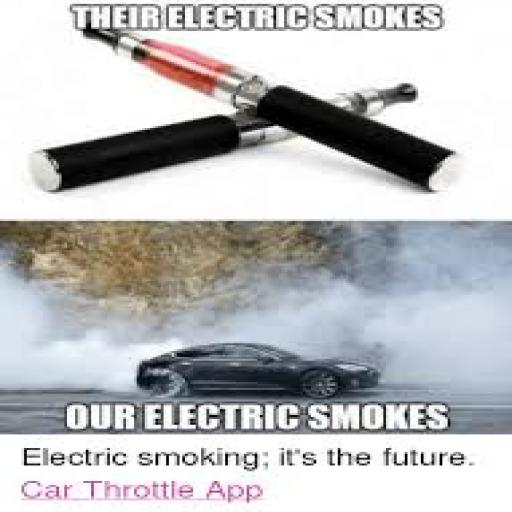smoke: (13, 246, 512, 402)
